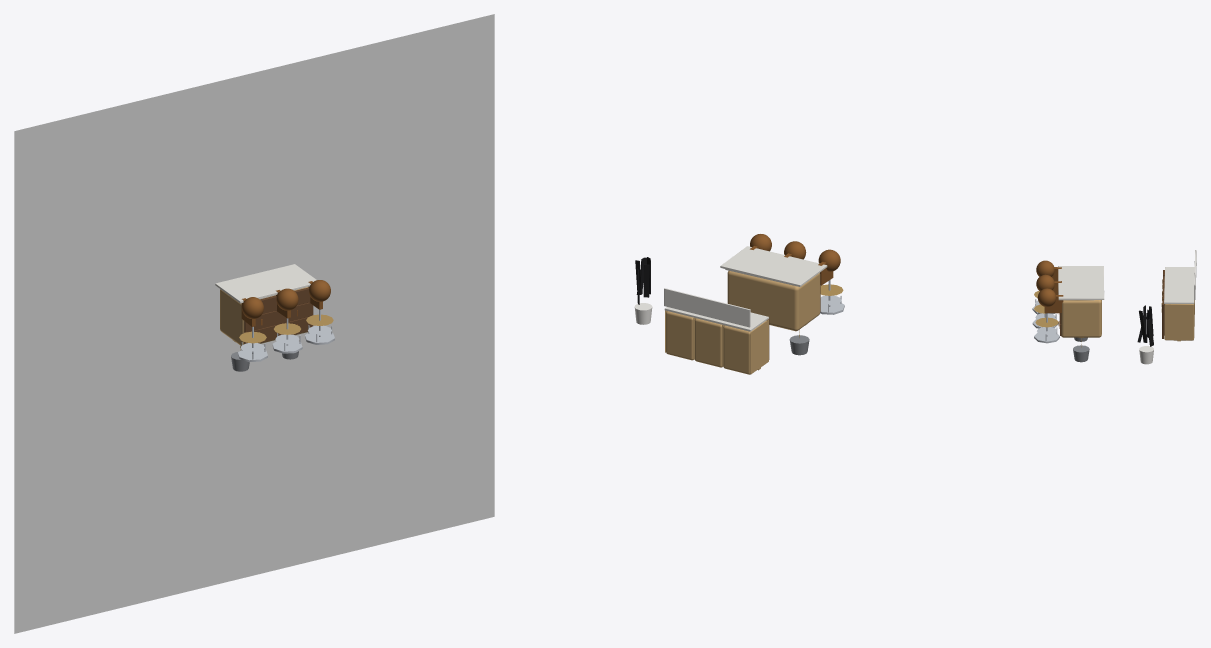
Rendered from kitchen.glb.
The picture shows the model from 3 angles, left to right: view 1: azimuth 30°, elevation 25°; view 2: azimuth 150°, elevation 25°; view 3: azimuth 270°, elevation 25°; orthographic projection. The views are drawn at different scales.
Parts seen in each view (by area): view 1: object 1, object 2, object 49, object 34, object 39; view 2: object 34, object 49, object 28, object 12, object 22, object 17, object 30; view 3: object 49, object 34, object 27, object 33, object 68, object 103, object 50.
Part boxes in pixels (left/top/right/bottom): object 1: left=14, top=14, right=494, bottom=633; object 2: left=206, top=234, right=302, bottom=385; object 49: left=215, top=264, right=316, bottom=303; object 34: left=220, top=287, right=308, bottom=345; object 39: left=244, top=302, right=313, bottom=332; object 34: left=727, top=270, right=820, bottom=331; object 49: left=720, top=246, right=827, bottom=286; object 28: left=664, top=288, right=750, bottom=327; object 12: left=723, top=320, right=766, bottom=374; object 22: left=666, top=311, right=693, bottom=360; object 17: left=694, top=318, right=721, bottom=367; object 30: left=750, top=319, right=768, bottom=374; object 49: left=1058, top=266, right=1104, bottom=300; object 34: left=1061, top=300, right=1101, bottom=337; object 27: left=1164, top=267, right=1194, bottom=303; object 33: left=1164, top=304, right=1193, bottom=340; object 68: left=1037, top=288, right=1055, bottom=306; object 103: left=1073, top=345, right=1089, bottom=362; object 50: left=1036, top=260, right=1054, bottom=276.
Size of the model in its own units: 10 by 10 by 3.52.
